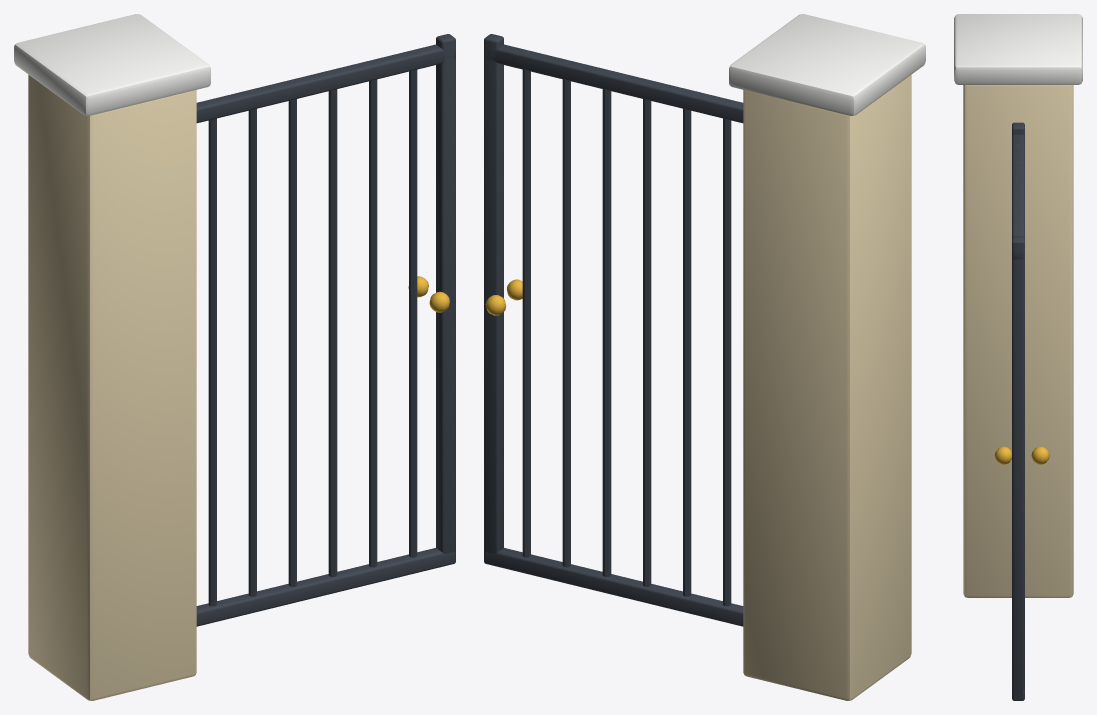
The model's file is portao_pedestre_mureta_grade.glb.
3 views of the same model, side by side, from view 1: azimuth 30°, elevation 25°; view 2: azimuth 150°, elevation 25°; view 3: azimuth 270°, elevation 25° (orthographic). The views are drawn at different scales.
Parts seen in each view (by area): view 1: portao_pedestre_mureta_grade, porta_1; view 2: portao_pedestre_mureta_grade, porta_1; view 3: portao_pedestre_mureta_grade, porta_1.
Part boxes in pixels (x1,y1,x2,y2): portao_pedestre_mureta_grade: (14,14,210,700); porta_1: (196,34,455,626); portao_pedestre_mureta_grade: (729,14,925,700); porta_1: (484,34,743,626); portao_pedestre_mureta_grade: (954,14,1082,597); porta_1: (994,122,1049,700).
Size of the model in its own units: 1.11 by 1.61 by 0.35.
Materials: 1 (1 with a texture image).
